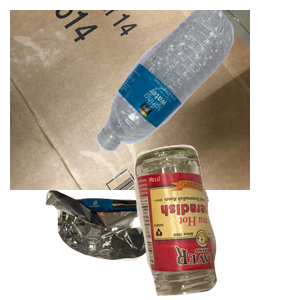cardboard: (10, 10, 250, 190)
glass: (131, 142, 300, 300)
plastic: (94, 10, 300, 154)
trash: (43, 187, 234, 300)
